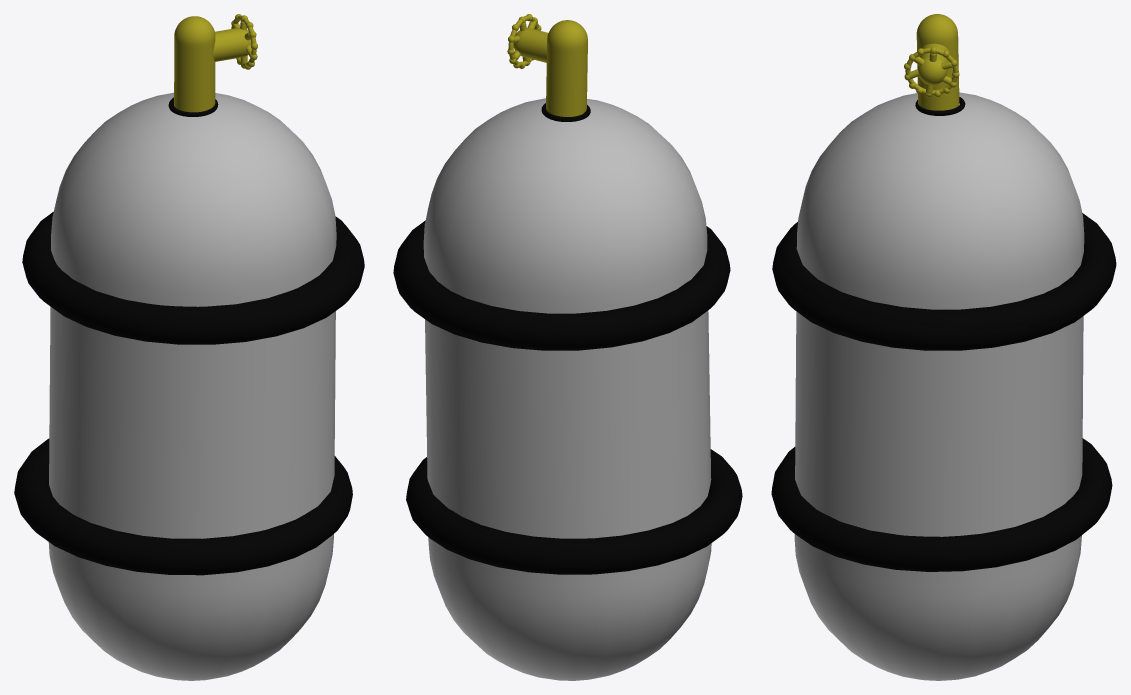
File: oxygen-scuba-diving-tank.glb
3 renders of one model, left to right at view 1: azimuth 30°, elevation 25°; view 2: azimuth 150°, elevation 25°; view 3: azimuth 270°, elevation 25°, orthographic.
Visible parts, largest first — view 1: p.0020, p.0023, p.0022, p.0024, p.0025, p.0050; view 2: p.0020, p.0022, p.0023, p.0025, p.0050, p.0024; view 3: p.0020, p.0023, p.0022, p.0024, p.0025, p.0050.
Part boxes in pixels (<box>): p.0020: <box>48,92,336,680</box>; p.0023: <box>14,438,352,575</box>; p.0022: <box>22,212,357,330</box>; p.0024: <box>60,225,364,344</box>; p.0025: <box>174,16,215,112</box>; p.0050: <box>213,27,251,61</box>; p.0020: <box>423,98,711,680</box>; p.0022: <box>394,220,730,349</box>; p.0023: <box>406,449,742,574</box>; p.0025: <box>546,20,587,116</box>; p.0050: <box>513,28,548,62</box>; p.0024: <box>393,265,689,350</box>; p.0020: <box>794,92,1084,680</box>; p.0023: <box>771,438,1112,571</box>; p.0022: <box>779,213,1116,331</box>; p.0024: <box>772,226,1106,350</box>; p.0025: <box>916,14,959,110</box>; p.0050: <box>917,43,949,84</box>.
Bounding box in the file's own units: 0.86 × 1.75 × 0.8386.
